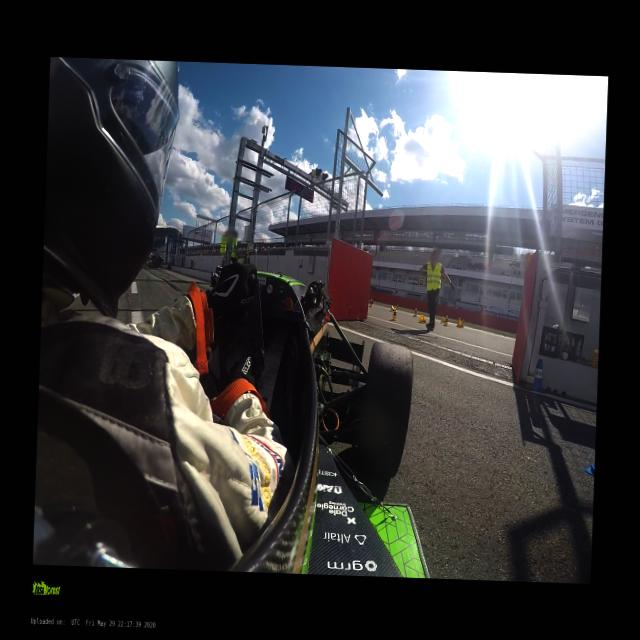blue_cone: (528, 356, 547, 396)
yellow_cone: (390, 308, 397, 321), (442, 315, 448, 326), (419, 314, 426, 323), (412, 308, 417, 317), (457, 320, 462, 327)
